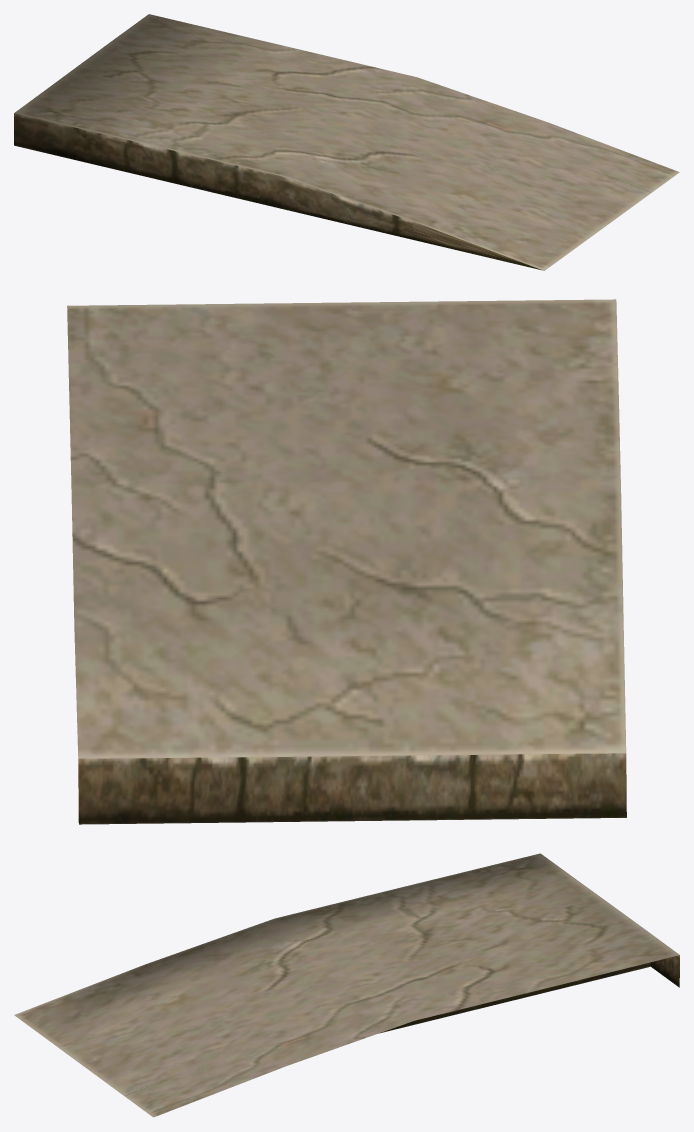
File: HTOWN01_HANNA-PORCH01.fbx
3 views of the same model, one above another, from view 1: azimuth 30°, elevation 25°; view 2: azimuth 150°, elevation 25°; view 3: azimuth 270°, elevation 25° (orthographic). The views are drawn at different scales.
Parts seen in each view (by area): view 1: HTOWN01_HANNA-PORCH01; view 2: HTOWN01_HANNA-PORCH01; view 3: HTOWN01_HANNA-PORCH01.
Part boxes in pixels (x1=…): HTOWN01_HANNA-PORCH01: x1=14, y1=14, x2=679, y2=270; HTOWN01_HANNA-PORCH01: x1=67, y1=299, x2=626, y2=824; HTOWN01_HANNA-PORCH01: x1=14, y1=853, x2=679, y2=1117.
Bounding box in the file's own units: 47425 × 3413 × 57725.
Materials: 2 (2 with a texture image).
